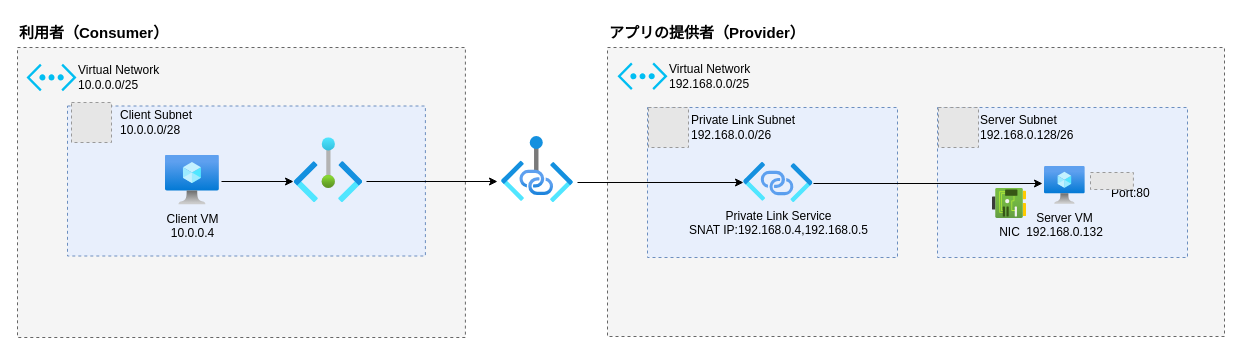
Image size: 1242x355. Some labels were removed from this diagram. Grey dashed boxes stand in for pictures. The centre of each missing label's shape, as x and y in pixels:
"Private Endpoint 10.0.0.5" belongs at point (328, 169).
"Private Link" belongs at point (537, 169).
